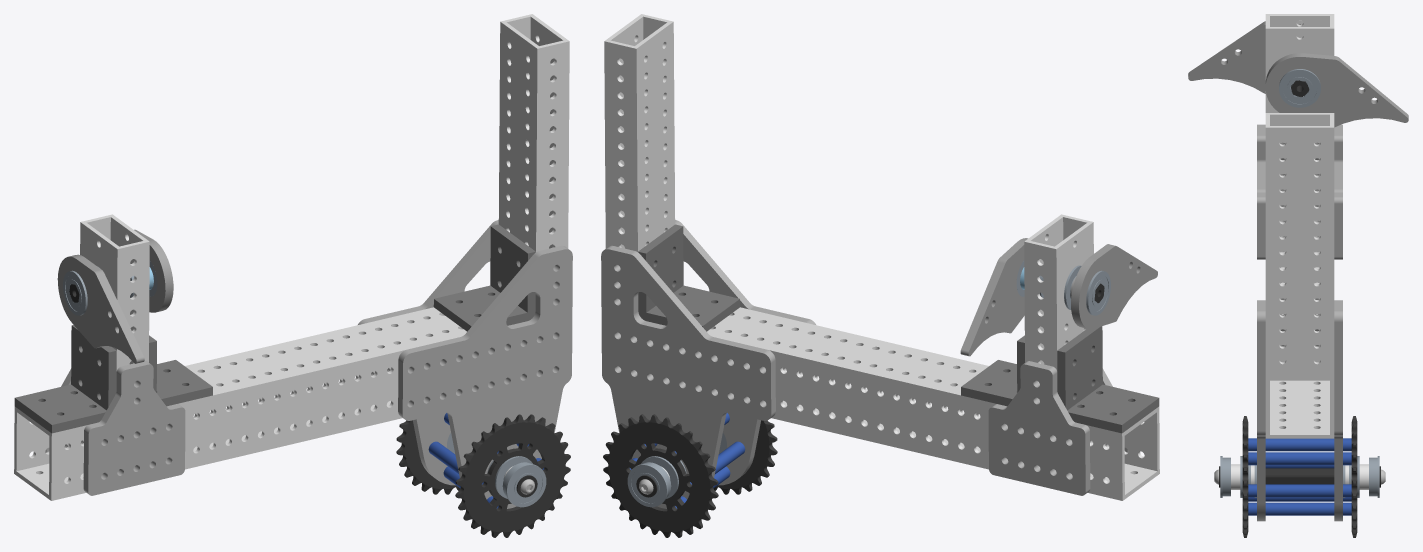
3 renders of one model, left to right at view 1: azimuth 30°, elevation 25°; view 2: azimuth 150°, elevation 25°; view 3: azimuth 270°, elevation 25°, orthographic. The views are drawn at different scales.
Visible parts, largest first — view 1: Part 1 (×4), Tube 2"x2"x16", Tube 2"x1"x8", 28t Bearing Bore Plate 35 Chain Sprocket (217-2653) (×2), Part 2 (×3), Part 7, Tube 2"x1"x5", .5" Round ID 1.125" OD Flanged Bearing (217-2731), .5" Hex ID 1.125" OD Flanged Bearing (217-2734); view 2: Part 1 (×4), Tube 2"x2"x16", Tube 2"x1"x8", Part 2 (×3), 28t Bearing Bore Plate 35 Chain Sprocket (217-2653) (×2), Part 7, Tube 2"x1"x5", .5" Round ID 1.125" OD Flanged Bearing (217-2731), .5" Hex ID 1.125" OD Flanged Bearing (217-2734); view 3: Tube 2"x1"x8", Part 2 (×2), Part 3 (×6), Tube 2"x2"x16", Part 1 (×2), Tube 2"x1"x5", Part 7 (×2), 28t Bearing Bore Plate 35 Chain Sprocket (217-2653) (×2), Shaft, .5" Hex ID 1.125" OD Flanged Bearing (217-2734), .5" Round ID 1.125" OD Flanged Bearing (217-2731) (×2), Part 4 (×2).
Part boxes in pixels (left/top/right/bottom): Part 1 (×4): left=14, top=220, right=572, bottom=508; Tube 2"x2"x16": left=14, top=307, right=521, bottom=500; Tube 2"x1"x8": left=498, top=14, right=569, bottom=251; 28t Bearing Bore Plate 35 Chain Sprocket (217-2653) (×2): left=396, top=414, right=570, bottom=537; Part 2 (×3): left=57, top=224, right=535, bottom=363; Part 7: left=83, top=361, right=185, bottom=495; Tube 2"x1"x5": left=80, top=214, right=149, bottom=399; .5" Round ID 1.125" OD Flanged Bearing (217-2731): left=502, top=462, right=546, bottom=507; .5" Hex ID 1.125" OD Flanged Bearing (217-2734): left=63, top=270, right=87, bottom=315; Part 1 (×4): left=601, top=220, right=1159, bottom=508; Tube 2"x2"x16": left=652, top=307, right=1159, bottom=500; Tube 2"x1"x8": left=604, top=14, right=675, bottom=251; Part 2 (×3): left=638, top=224, right=1157, bottom=356; 28t Bearing Bore Plate 35 Chain Sprocket (217-2653) (×2): left=603, top=414, right=777, bottom=537; Part 7: left=988, top=361, right=1090, bottom=495; Tube 2"x1"x5": left=1024, top=214, right=1093, bottom=399; .5" Round ID 1.125" OD Flanged Bearing (217-2731): left=627, top=462, right=671, bottom=507; .5" Hex ID 1.125" OD Flanged Bearing (217-2734): left=1086, top=270, right=1110, bottom=315; Tube 2"x1"x8": left=1265, top=113, right=1334, bottom=376; Part 2 (×2): left=1188, top=20, right=1408, bottom=127; Part 3 (×6): left=1265, top=438, right=1334, bottom=515; Tube 2"x2"x16": left=1265, top=220, right=1334, bottom=438; Part 1 (×2): left=1257, top=300, right=1342, bottom=521; Tube 2"x1"x5": left=1265, top=14, right=1334, bottom=112; Part 7 (×2): left=1257, top=124, right=1342, bottom=259; 28t Bearing Bore Plate 35 Chain Sprocket (217-2653) (×2): left=1242, top=416, right=1357, bottom=537; Shaft: left=1214, top=466, right=1385, bottom=487; .5" Hex ID 1.125" OD Flanged Bearing (217-2734): left=1279, top=69, right=1320, bottom=107; .5" Round ID 1.125" OD Flanged Bearing (217-2731) (×2): left=1220, top=456, right=1379, bottom=497; Part 4 (×2): left=1231, top=464, right=1368, bottom=489.
Bounding box in the file's own units: 0.4083 × 0.3541 × 0.1625.
